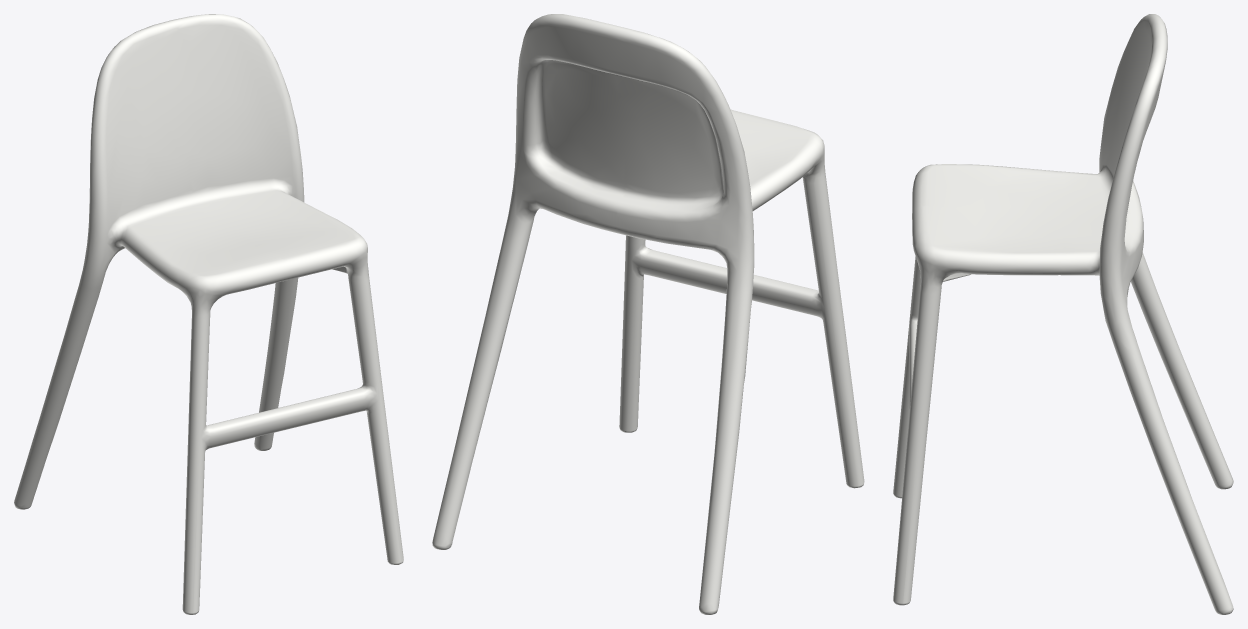
File: urban_krzeso_dzieciece_00165213.glb
The picture shows the model from 3 angles, left to right: view 1: azimuth 30°, elevation 25°; view 2: azimuth 150°, elevation 25°; view 3: azimuth 270°, elevation 25°; orthographic projection. The views are drawn at different scales.
Parts seen in each view (by area): view 1: urban_krzeso_dzieciece_00165213; view 2: urban_krzeso_dzieciece_00165213; view 3: urban_krzeso_dzieciece_00165213.
Boxes of the visible parts, x1,y1,x2,y2 form: urban_krzeso_dzieciece_00165213: (14,14,403,614); urban_krzeso_dzieciece_00165213: (432,14,864,614); urban_krzeso_dzieciece_00165213: (893,14,1233,614).
Size of the model in its own units: 0.4465 by 0.7982 by 0.4796.
Materials: 1 (1 with a texture image).
